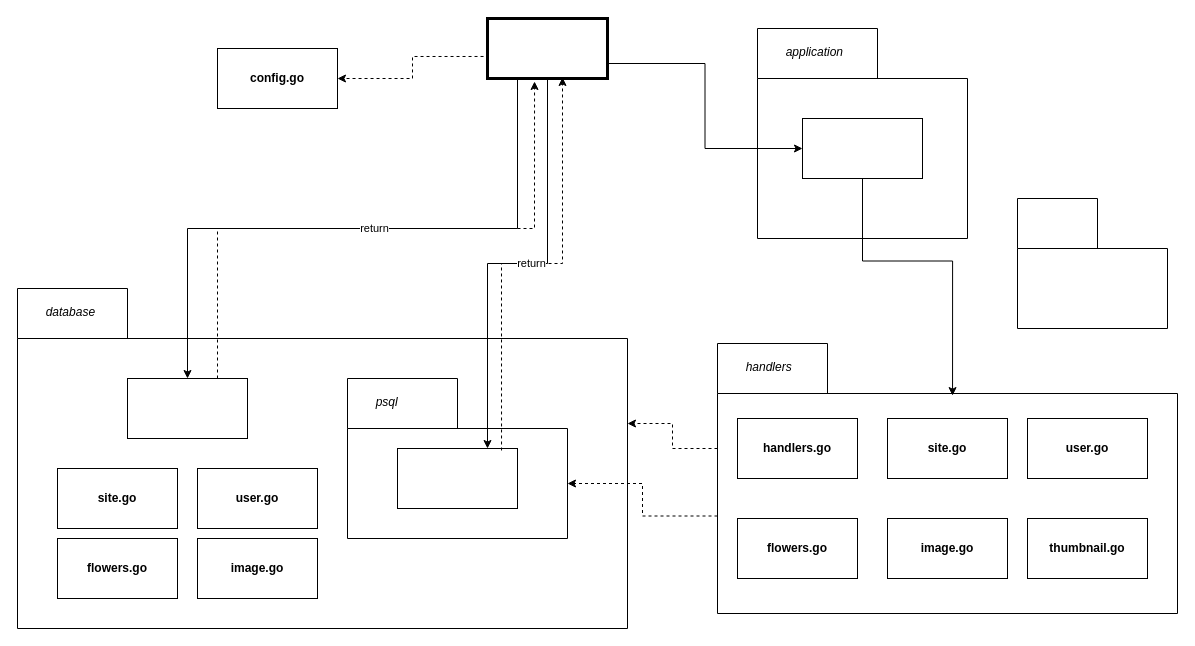
Image size: 1195x646. Some labels were removed from this diagram. The box of each missing label's shape, as (x1, y1, x2, y2) in pixels:
application .go: (802, 118, 922, 178)
database.go (MongoDB): (126, 378, 248, 438)
database.go (Postgres): (396, 448, 518, 508)
main.go: (486, 16, 608, 80)
utils: (1016, 198, 1168, 328)
